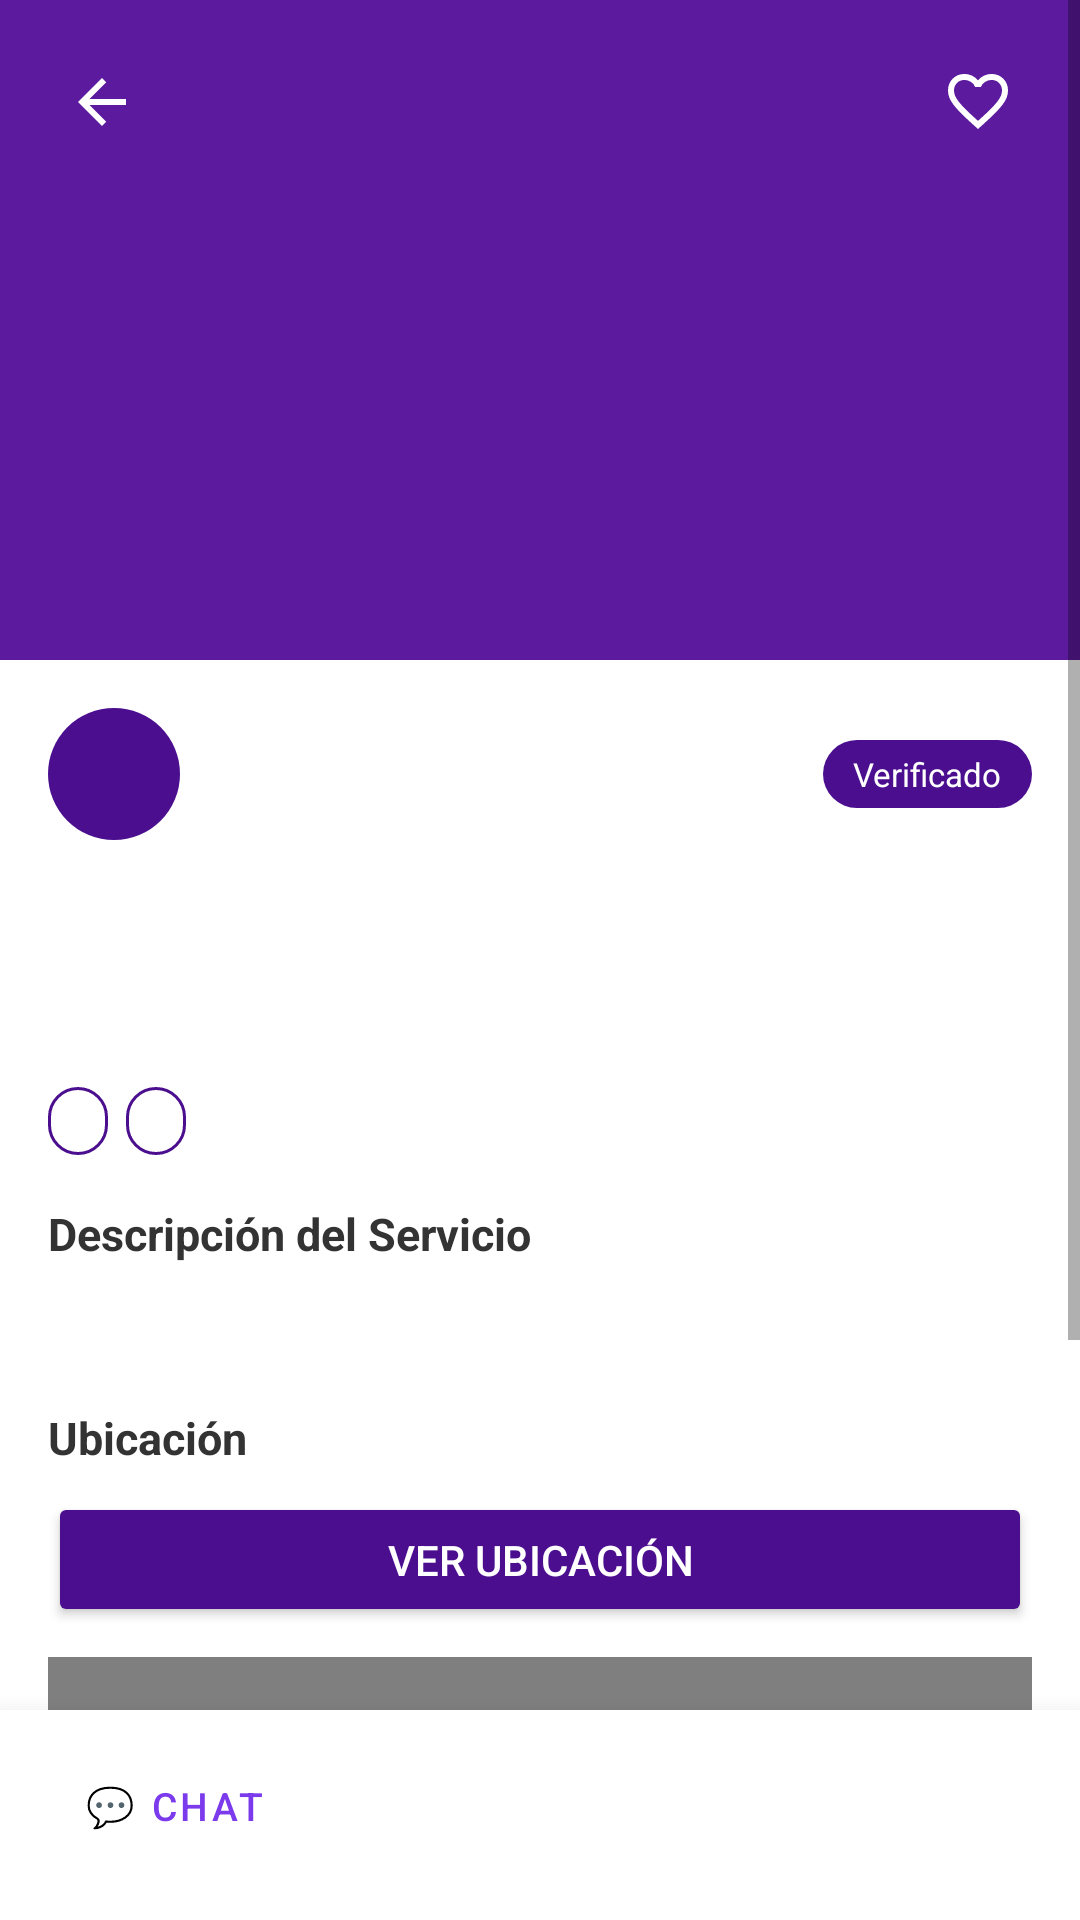

Icons on this 1080 x 1920 Android screen, each with the point to tap as (x=x, y=y):
arrow back: (x=102, y=102)
favorito: (x=978, y=101)
